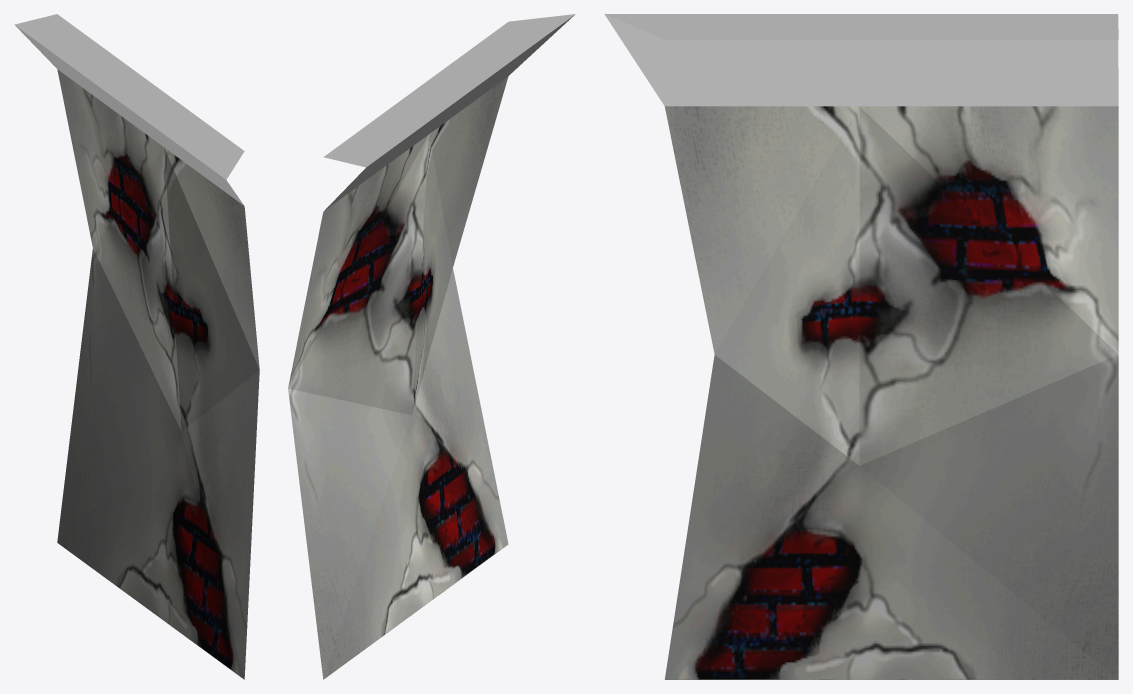
3 renders of one model, left to right at view 1: azimuth 30°, elevation 25°; view 2: azimuth 150°, elevation 25°; view 3: azimuth 270°, elevation 25°, orthographic. The views are drawn at different scales.
Visible parts, largest first — view 1: polySurfaceShape1210, polySurfaceShape1212; view 2: polySurfaceShape1210, polySurfaceShape1212; view 3: polySurfaceShape1210, polySurfaceShape1212.
Part boxes in pixels (x1,y1,x2,y2): polySurfaceShape1210: [57, 69, 259, 679]; polySurfaceShape1212: [14, 14, 244, 205]; polySurfaceShape1210: [288, 76, 508, 679]; polySurfaceShape1212: [323, 14, 575, 210]; polySurfaceShape1210: [664, 106, 1118, 679]; polySurfaceShape1212: [604, 14, 1118, 106].
Size of the model in its own units: 0.0607 by 0.3891 by 0.2833.
Materials: 2 (1 with a texture image).
